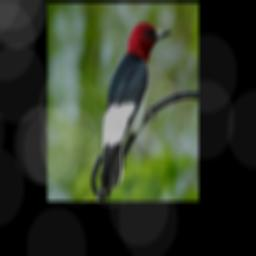Woodpecker: (94, 21, 173, 201)
